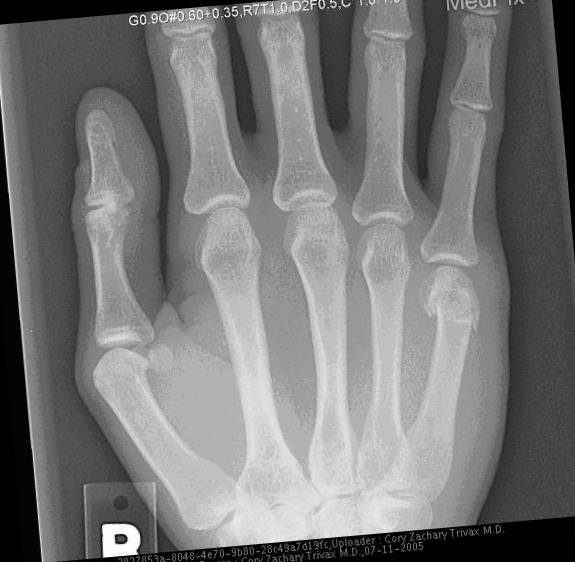fracture: (422, 279, 485, 339)
